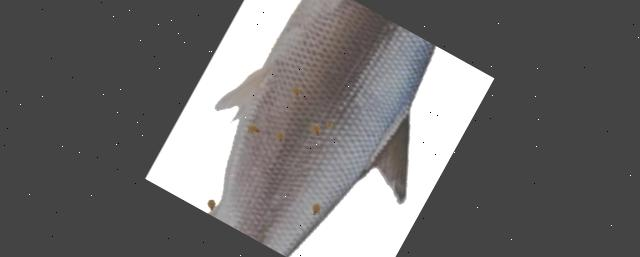Parasitic Disease: (209, 0, 436, 257), (209, 0, 435, 257)
